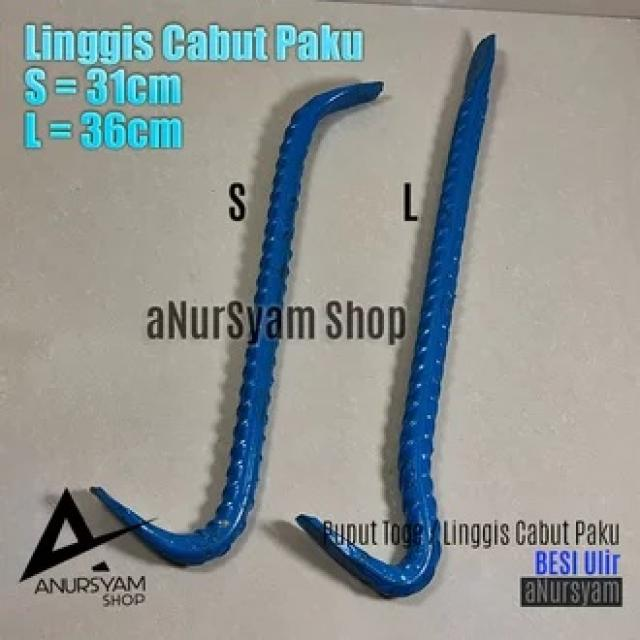Linggis: (90, 80, 389, 561)
